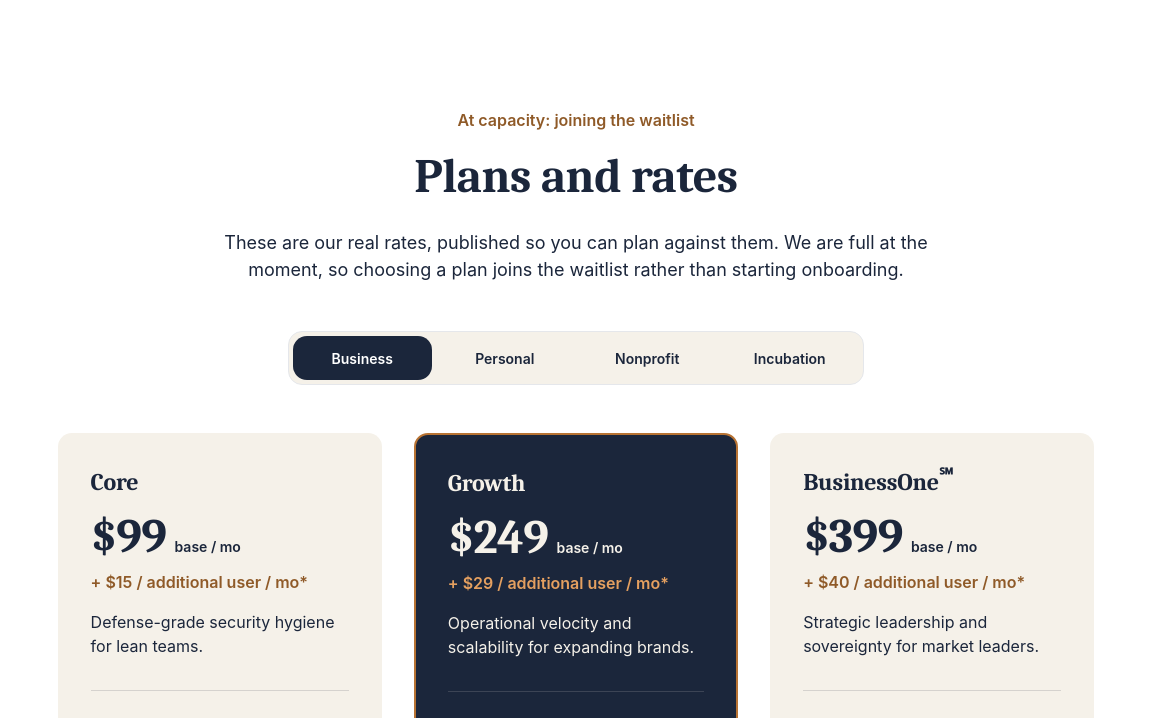
Scenario: PricingClient › switches at once on a tab change and writes ?mode= with router.replace, without scrolling
(page scrolled)
Click the tab "Nonprofit" at (647, 358), box [578, 336, 716, 380]
(page scrolled)
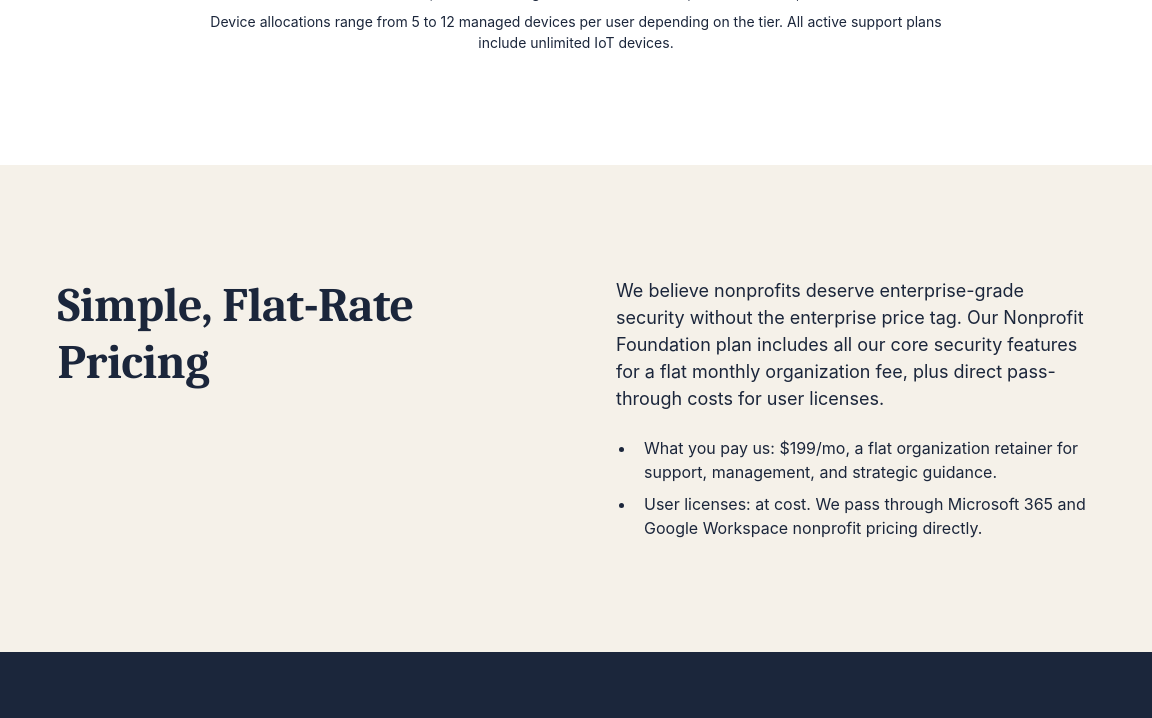
Now the heading "Simple, Flat-Rate Pricing" is shown, box [58, 278, 414, 390]
